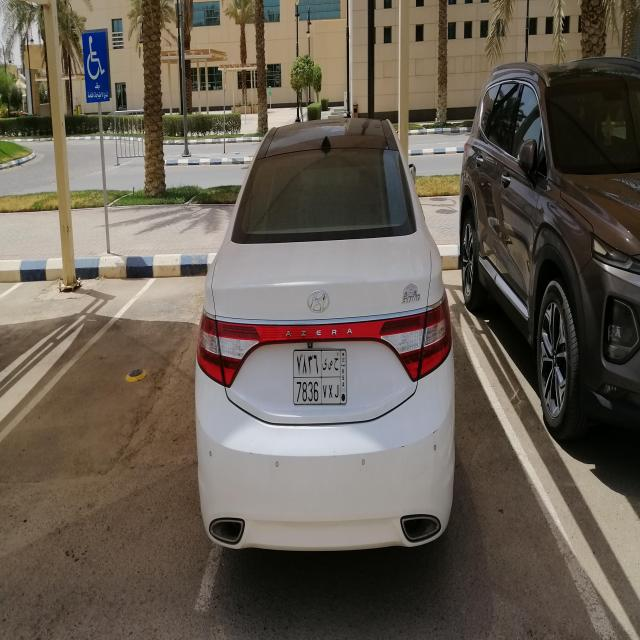license_plate: (292, 347, 348, 409)
